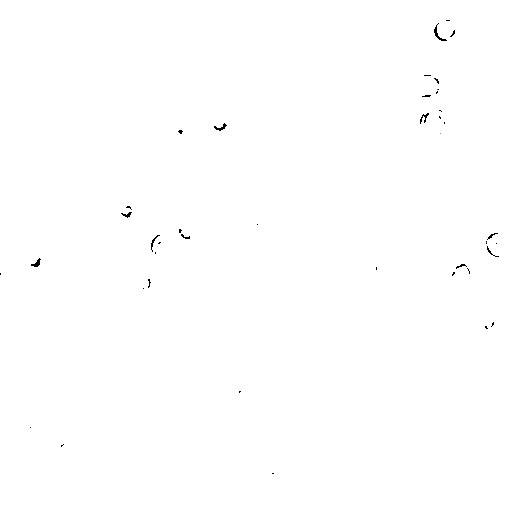micro-algae: (47, 105, 172, 230), (167, 1, 329, 77), (312, 403, 408, 502), (180, 42, 254, 126), (338, 413, 399, 475), (0, 85, 45, 164), (255, 210, 310, 261), (424, 137, 467, 181), (79, 257, 121, 302), (16, 132, 56, 172), (401, 81, 436, 116), (417, 105, 450, 137), (406, 307, 437, 339), (446, 329, 476, 362), (43, 1, 72, 32), (477, 14, 504, 43), (149, 233, 177, 260), (484, 230, 510, 259), (38, 485, 66, 511), (413, 74, 443, 98), (261, 455, 288, 481), (450, 260, 473, 290), (347, 20, 378, 42), (285, 488, 313, 512), (180, 95, 205, 120), (434, 18, 459, 41), (430, 142, 455, 164), (131, 250, 156, 272), (331, 336, 353, 360), (56, 441, 77, 466), (176, 222, 200, 242), (222, 377, 244, 398), (170, 123, 192, 144), (431, 239, 451, 261), (25, 246, 43, 269), (185, 189, 205, 209), (477, 311, 496, 330), (252, 220, 271, 239), (262, 234, 281, 252), (212, 113, 230, 131), (22, 427, 41, 444), (498, 148, 511, 172), (480, 500, 506, 512), (118, 203, 135, 220), (363, 261, 379, 279), (136, 276, 153, 292), (2, 265, 17, 282), (503, 76, 512, 97), (372, 1, 391, 9), (505, 404, 512, 423)
